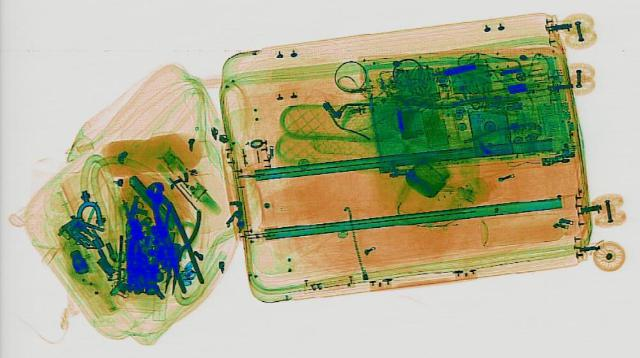Pliers: (150, 200, 202, 293)
